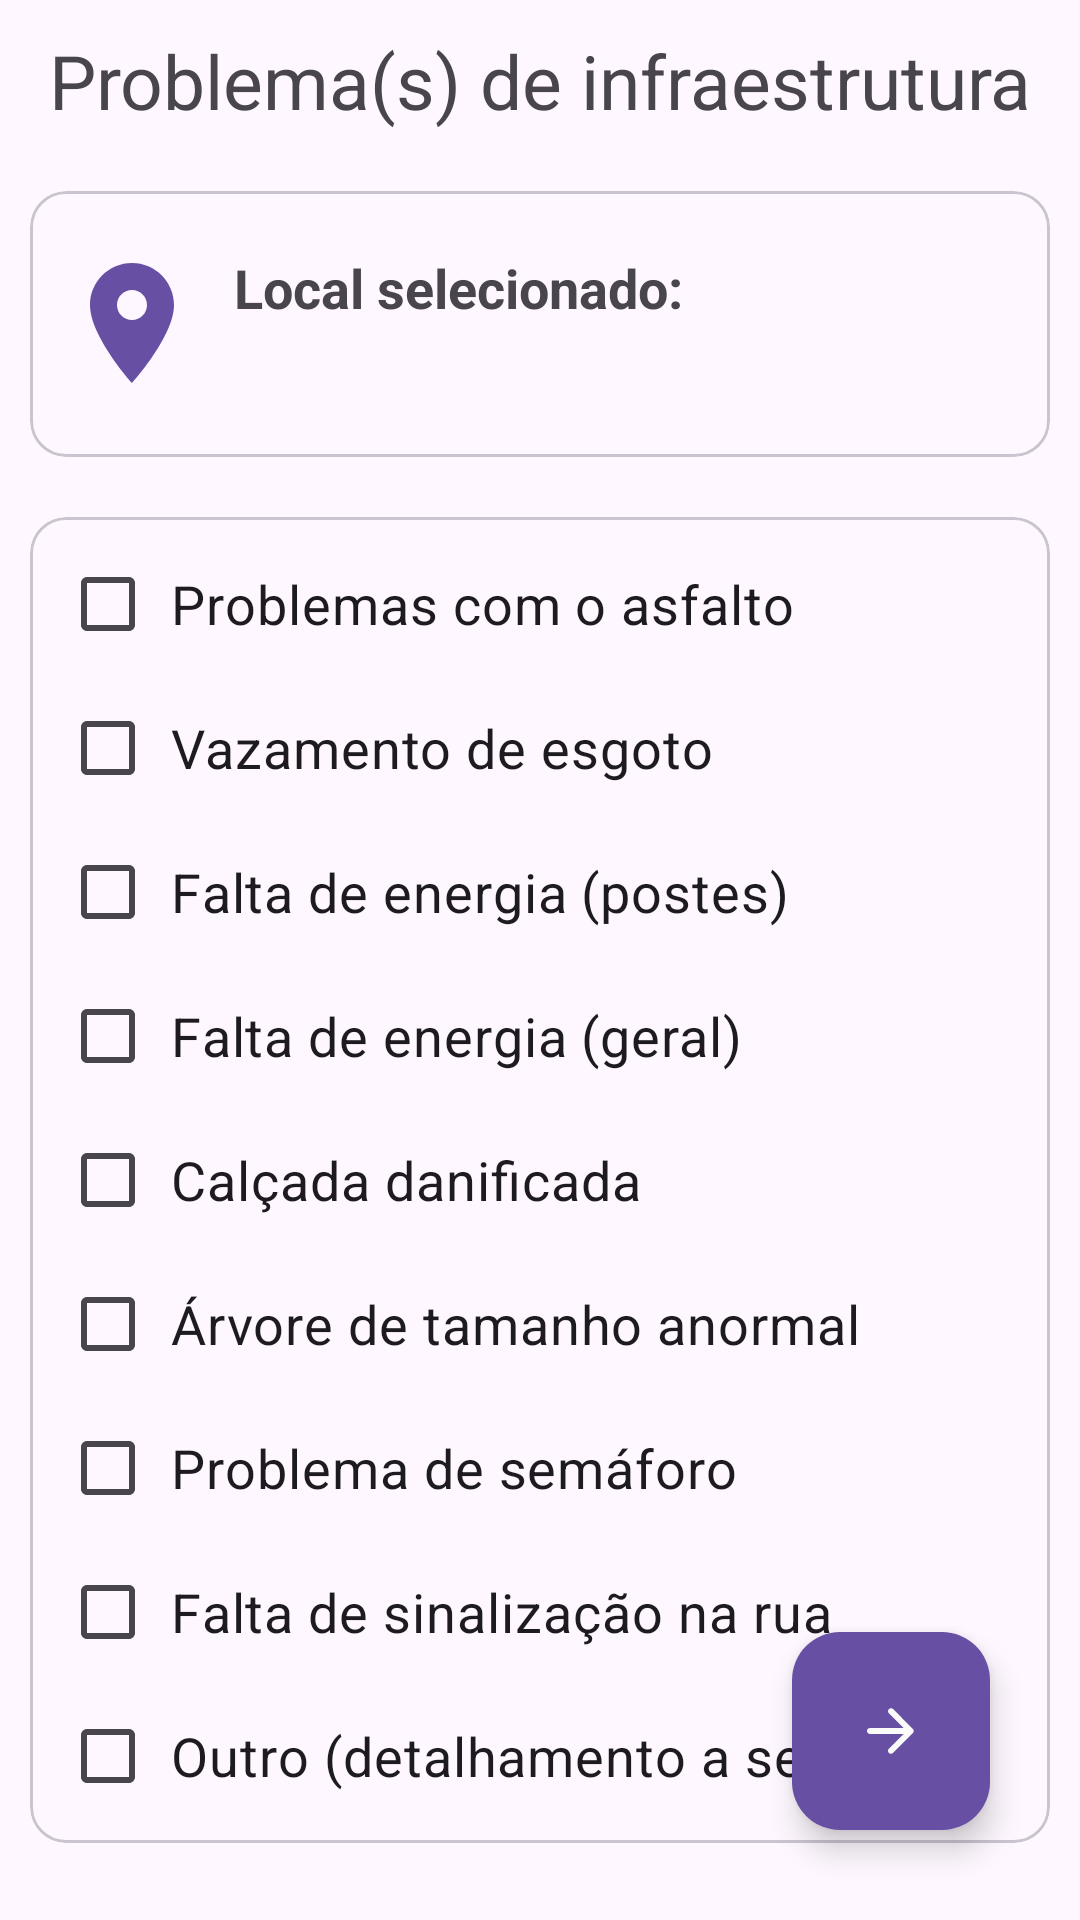

Icons on this 1080px x 1920px Android screen, each with the point to tap as (x,y):
arrow forward: (891,1731)
location on: (132,323)
